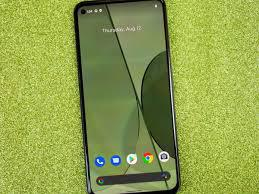Smartphone: (69, 0, 182, 191)
